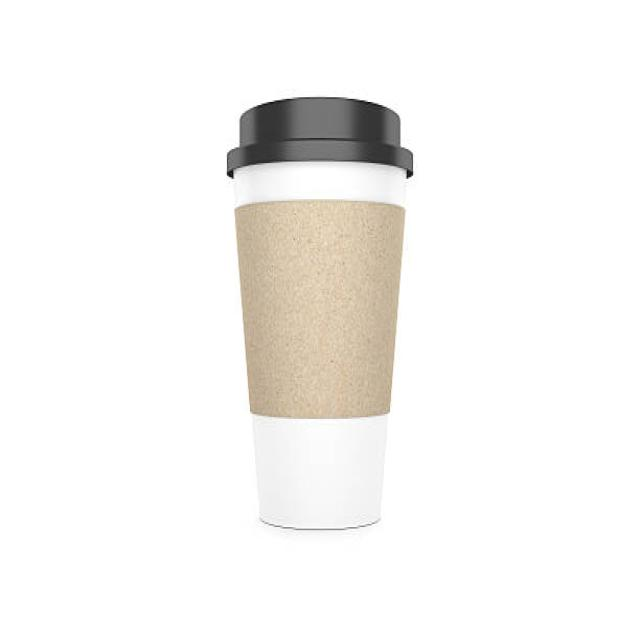cup: (222, 94, 418, 534)
